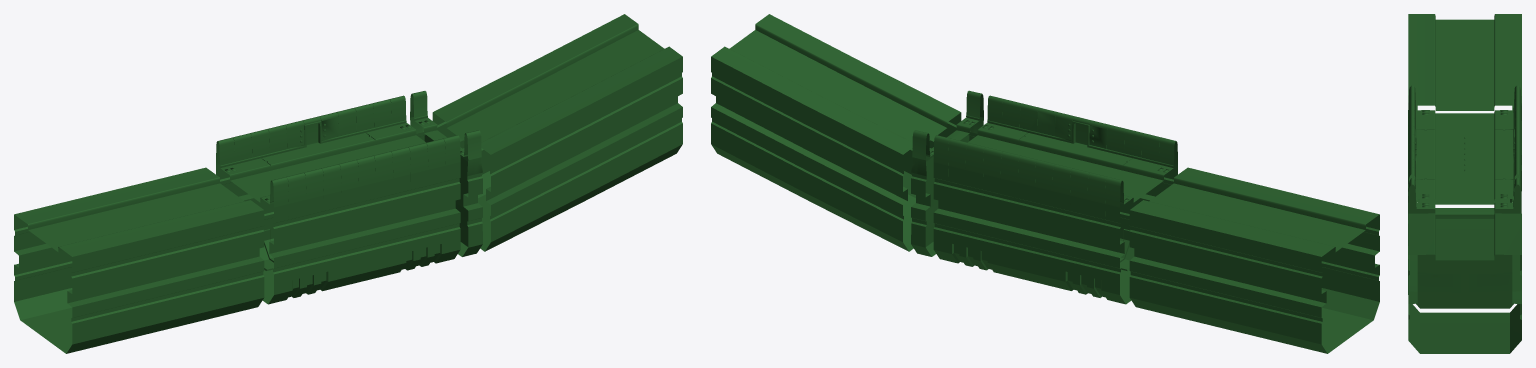
Rendered from floorFINAL.fbx.
3 views of the same model, side by side, from view 1: azimuth 30°, elevation 25°; view 2: azimuth 150°, elevation 25°; view 3: azimuth 270°, elevation 25° (orthographic). The views are drawn at different scales.
Parts seen in each view (by area): view 1: Cube.006, Cube.004, Cube.003, side; view 2: Cube.006, Cube.004, Cube.003, side; view 3: Cube.006, Cube.003, Cube.004, side.
Boxes of the visible parts, x1,y1,x2,y2 form: Cube.006: (14,167,264,353); Cube.004: (216,95,460,304); Cube.003: (432,14,682,251); side: (410,91,482,256); Cube.006: (1129,167,1379,353); Cube.004: (933,95,1177,304); Cube.003: (711,14,961,251); side: (911,90,983,256); Cube.006: (1408,14,1521,204); Cube.003: (1408,213,1521,353); Cube.004: (1408,85,1521,251); side: (1408,178,1521,308).
Size of the model in its own units: 2427 by 581 by 401.
